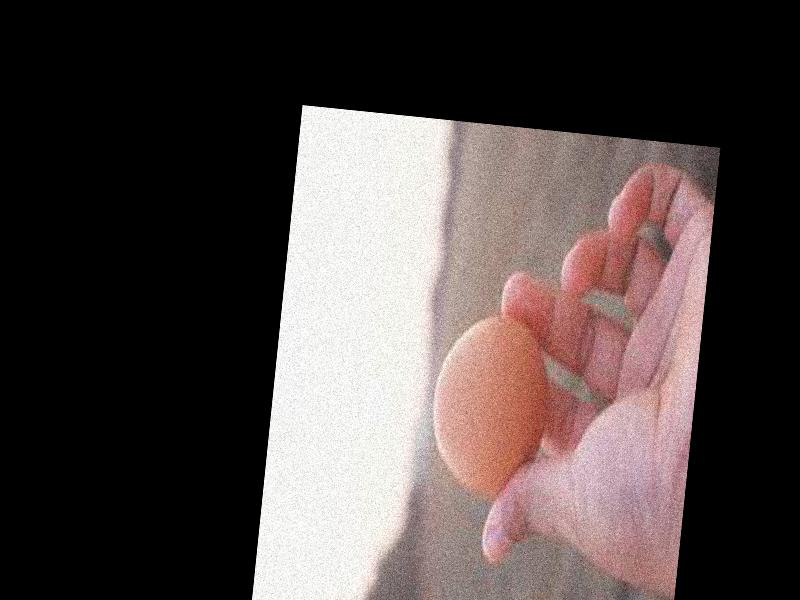Eggs: (425, 309, 554, 497)
